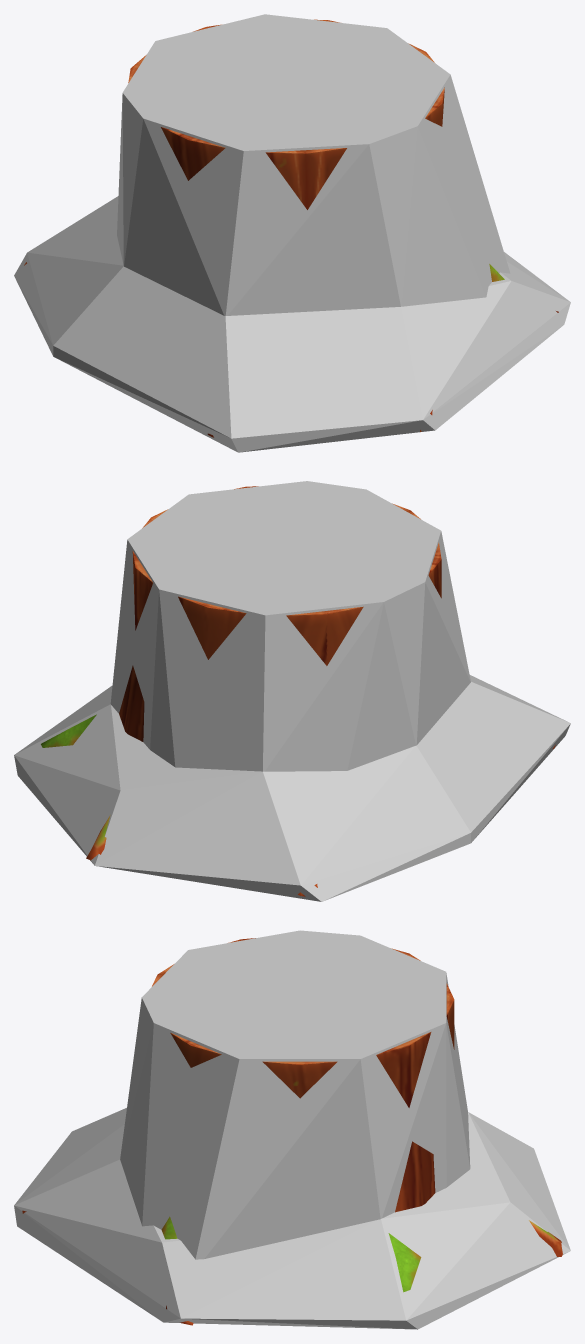
The model's file is SM_Stump02.fbx.
The picture shows the model from 3 angles, top to bottom: view 1: azimuth 30°, elevation 25°; view 2: azimuth 150°, elevation 25°; view 3: azimuth 270°, elevation 25°; orthographic projection. The views are drawn at different scales.
Parts seen in each view (by area): view 1: SM_Stump02_ConvexHulls, SM_Stump02; view 2: SM_Stump02_ConvexHulls, SM_Stump02; view 3: SM_Stump02_ConvexHulls, SM_Stump02.
Part boxes in pixels (bbox=[...]): SM_Stump02_ConvexHulls: bbox=[14, 14, 570, 452]; SM_Stump02: bbox=[24, 19, 558, 437]; SM_Stump02_ConvexHulls: bbox=[14, 481, 570, 901]; SM_Stump02: bbox=[41, 486, 555, 896]; SM_Stump02_ConvexHulls: bbox=[14, 930, 570, 1329]; SM_Stump02: bbox=[22, 938, 562, 1325].
Size of the model in its own units: 78.24 by 90.19 by 41.37.
2 materials, 1 textured.
